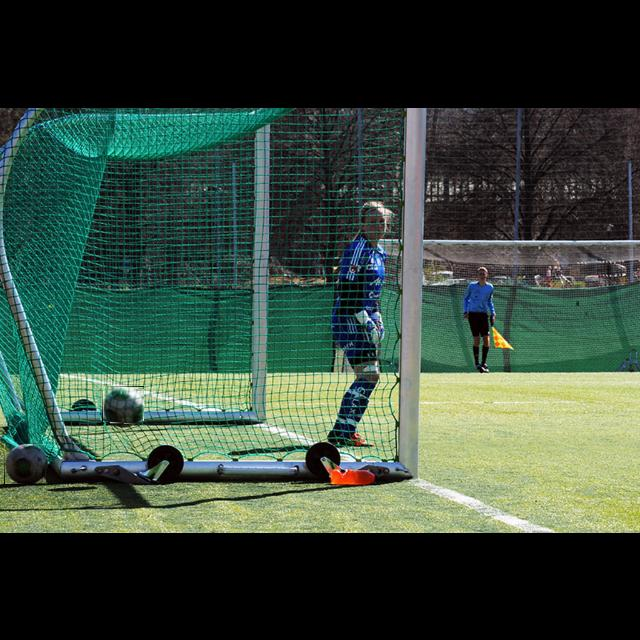Football: (4, 444, 46, 484), (102, 386, 144, 424)
